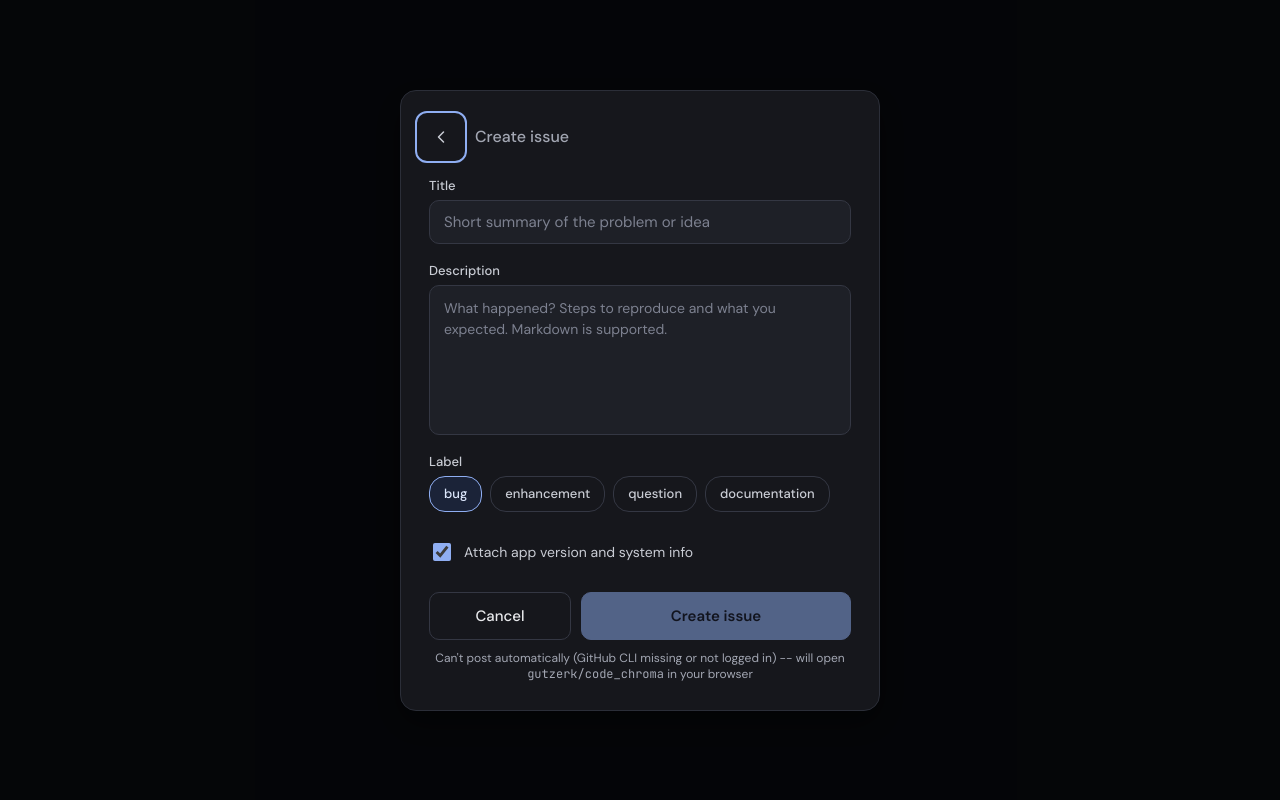
CreateIssueDialog › posts through the bridge when gh can post, and shows the created issue link
Type "Bug title" into the field labelled "Title" at [640, 222], box [429,200,851,244]
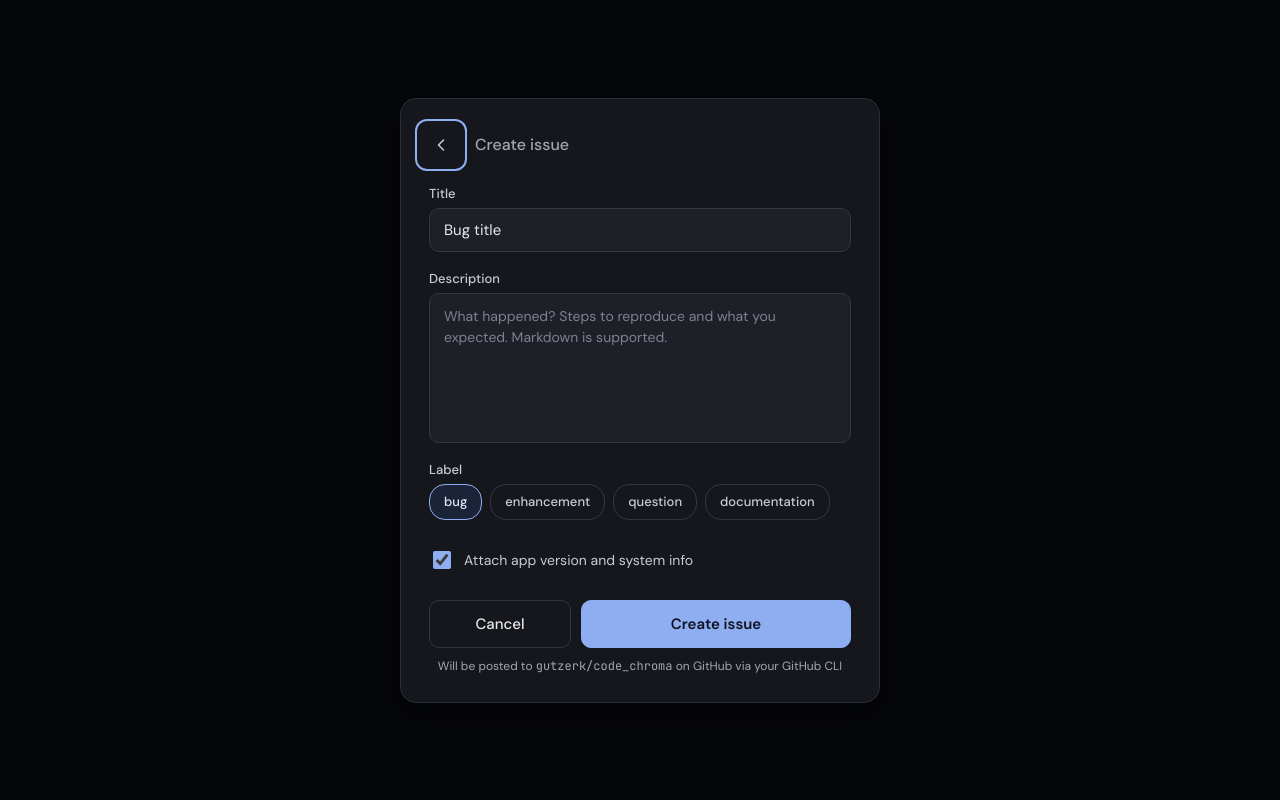
Check: the text "via your GitHub CLI" is shown, box [672,658,842,674]
Click the button "Create issue" at [716, 624], box [581,600,851,648]
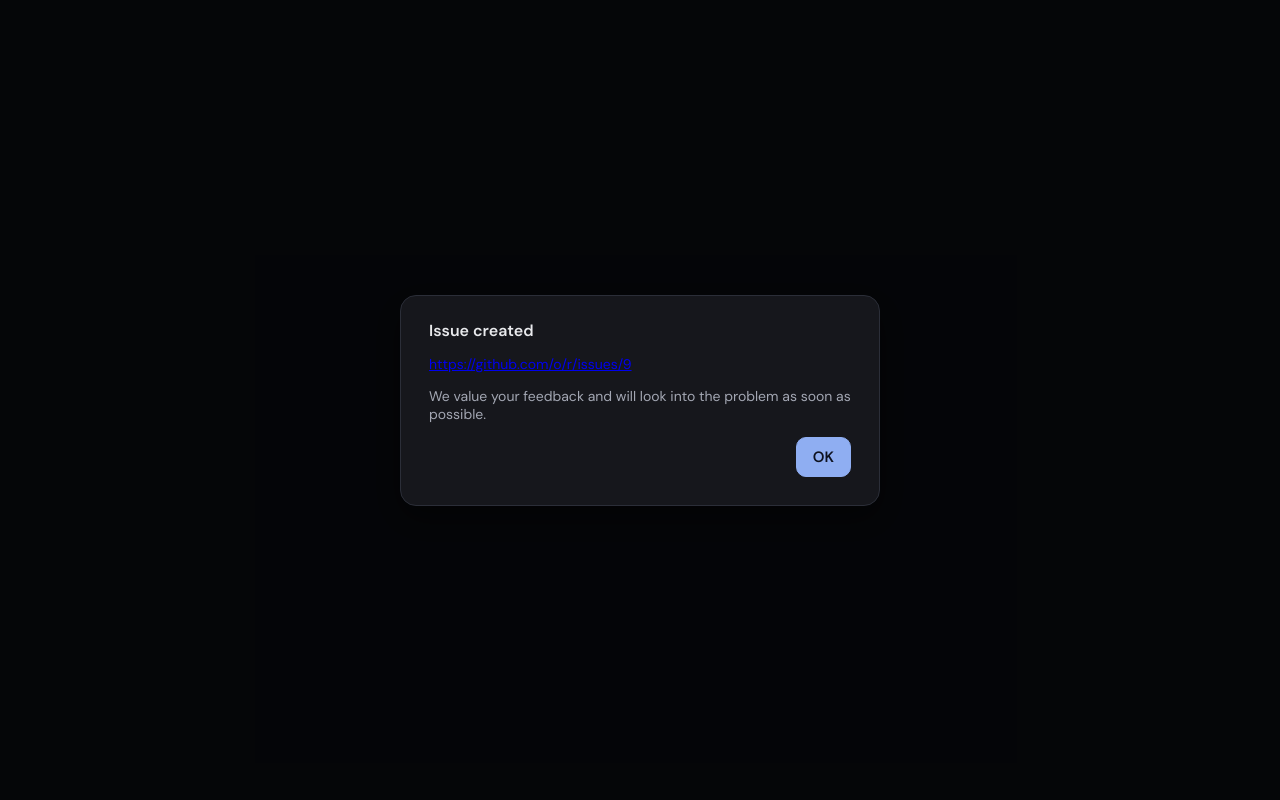
Check: the link "https://github.com/o/r/issues/9" is shown, box [429,354,632,372]
